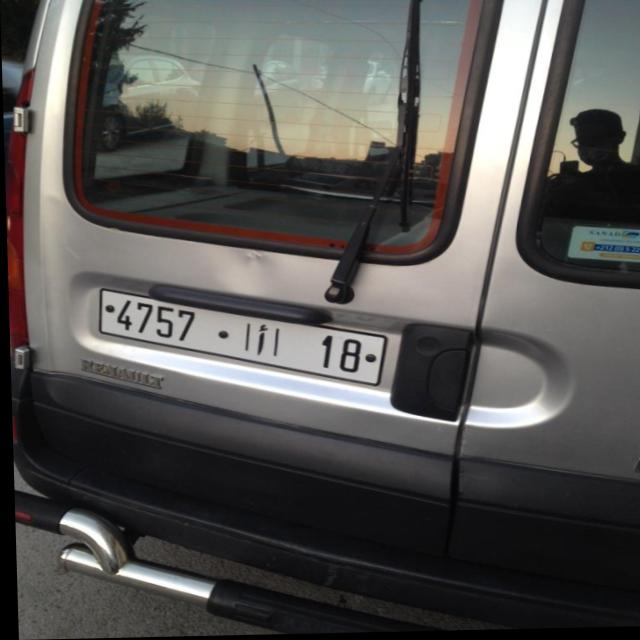License-Plate: (98, 290, 383, 385)
